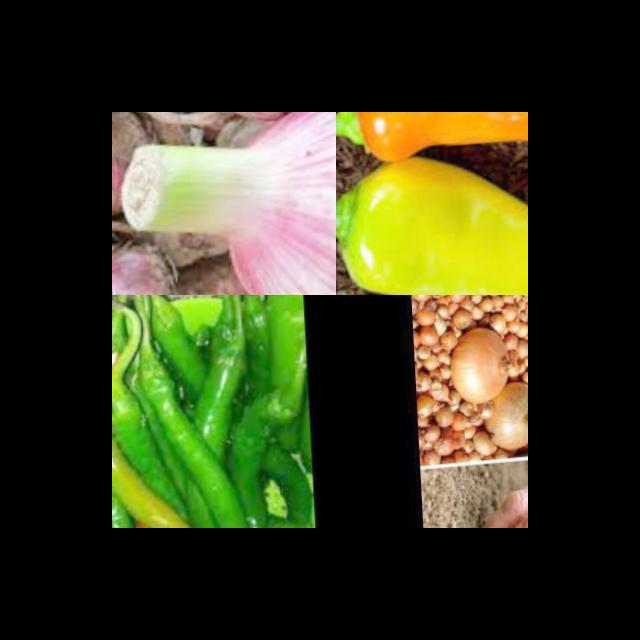garlic: (123, 112, 336, 295)
onion: (408, 295, 528, 458), (444, 325, 517, 412), (483, 383, 528, 452)
